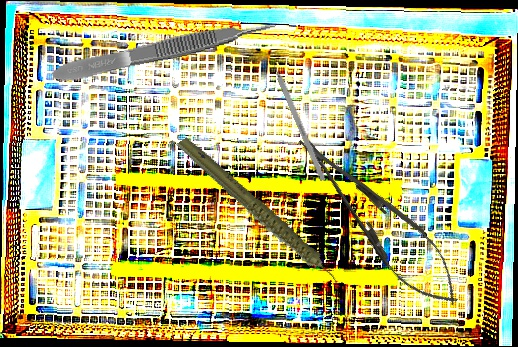Handpiece: (175, 111, 343, 319)
Hook Surgical: (266, 52, 327, 182)
Needle Holder: (282, 119, 476, 321)
Tissue Forceps: (50, 15, 279, 86)
